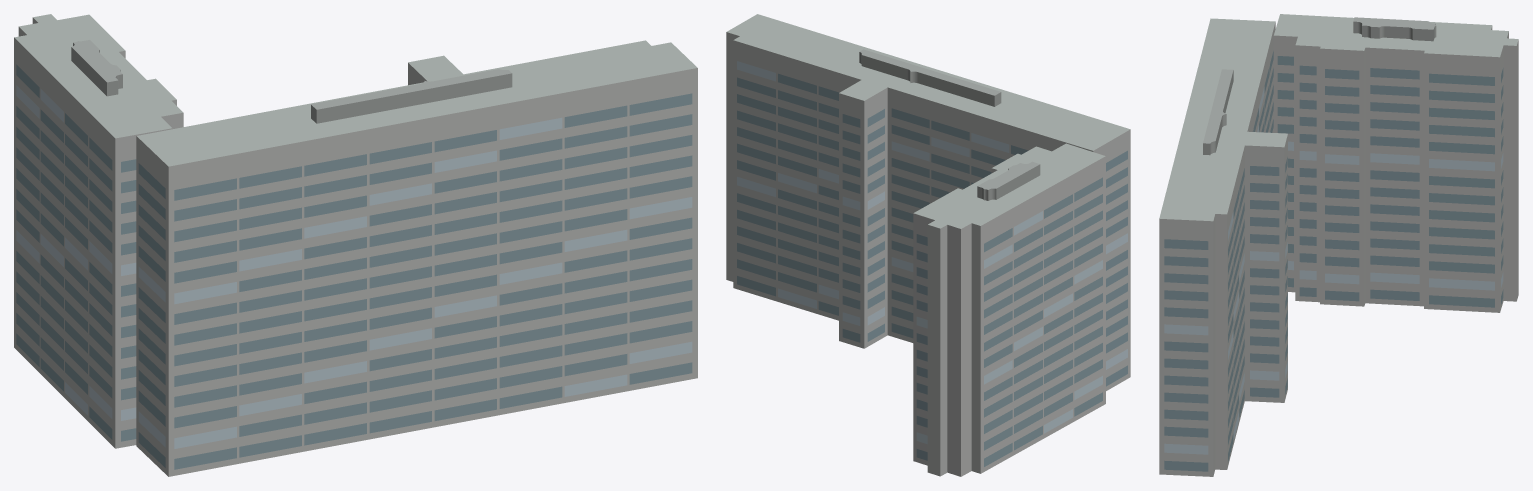
Rendered from apt-a13006001.glb.
3 views of the same model, side by side, from view 1: azimuth 30°, elevation 25°; view 2: azimuth 150°, elevation 25°; view 3: azimuth 270°, elevation 25° (orthographic). The views are drawn at different scales.
Visible parts, largest first — view 1: apt-a13006001; view 2: apt-a13006001; view 3: apt-a13006001.
Boxes of the visible parts, bbox=[...] form: apt-a13006001: bbox=[14, 14, 697, 476]; apt-a13006001: bbox=[726, 14, 1130, 476]; apt-a13006001: bbox=[1159, 14, 1518, 476].
Bounding box in the file's own units: 79.53 × 47.81 × 58.29.
